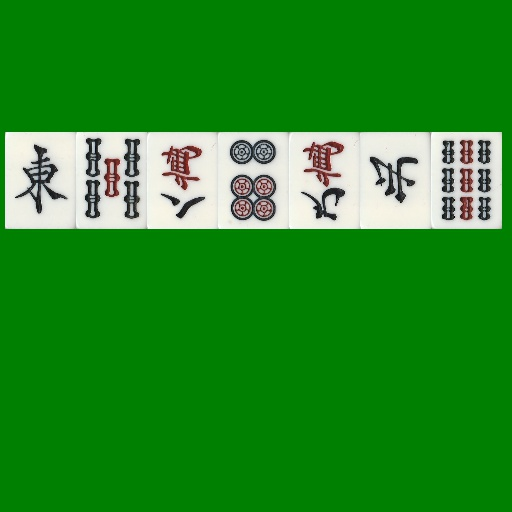5s: (76, 132, 147, 229)
6p: (218, 132, 289, 229)
8m: (147, 132, 218, 229)
9m: (289, 132, 360, 229)
9s: (431, 132, 502, 229)
east: (5, 132, 76, 229)
north: (360, 132, 431, 229)
